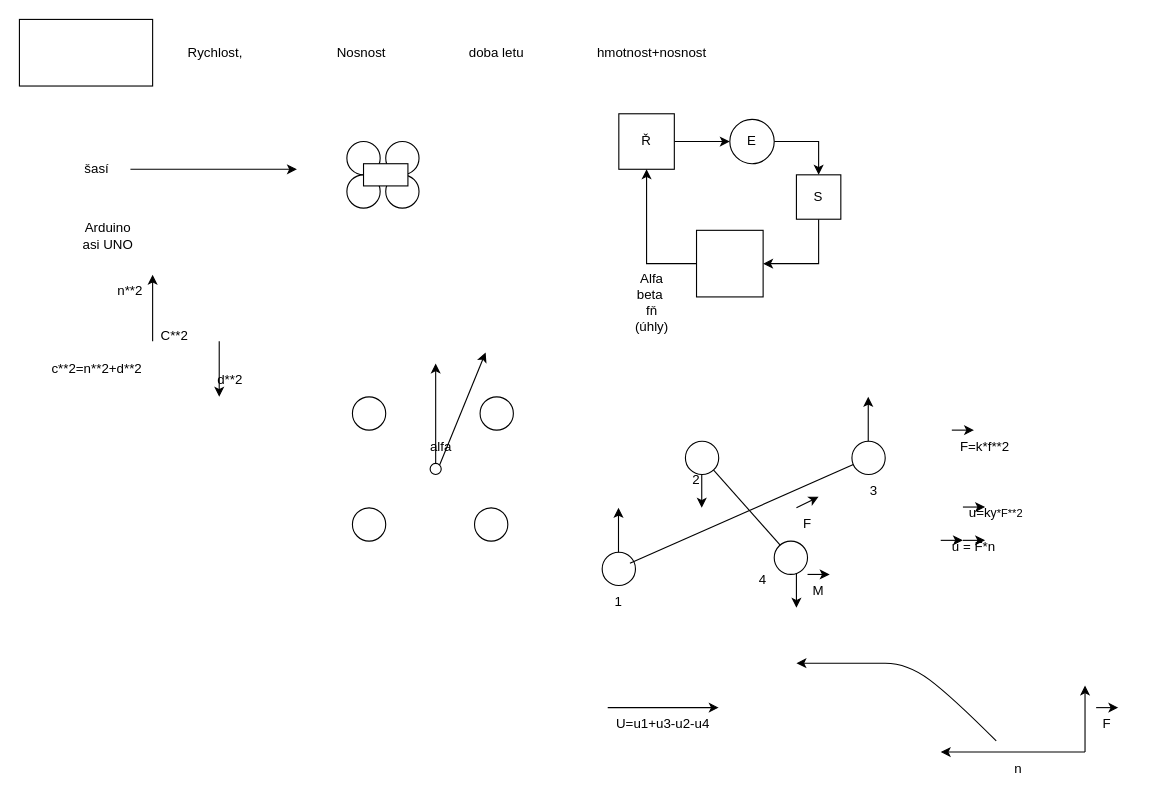
This 1160x805 diagram has some shape labels left out. The shapes that lost their labels are listed below. From the top down, each one's centre as x and y in pixels, then its label:
At (85,52): "K čemu:".
At (729,263): "M (gyroskop)".
